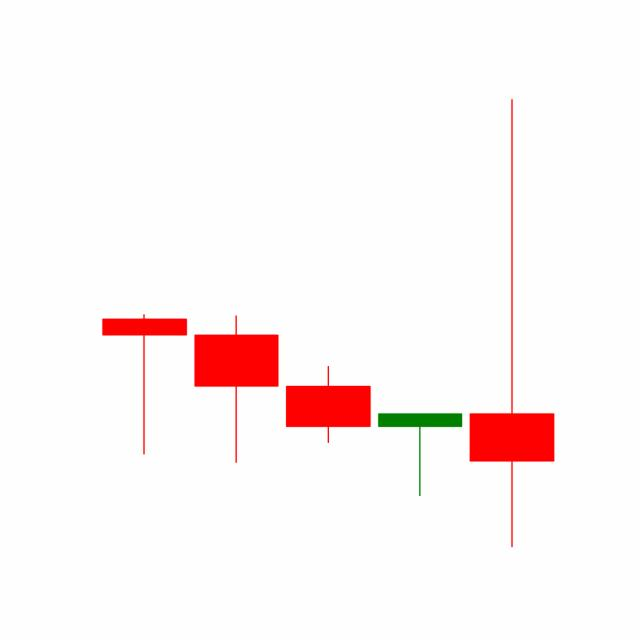Hammer: (373, 412, 467, 498)
